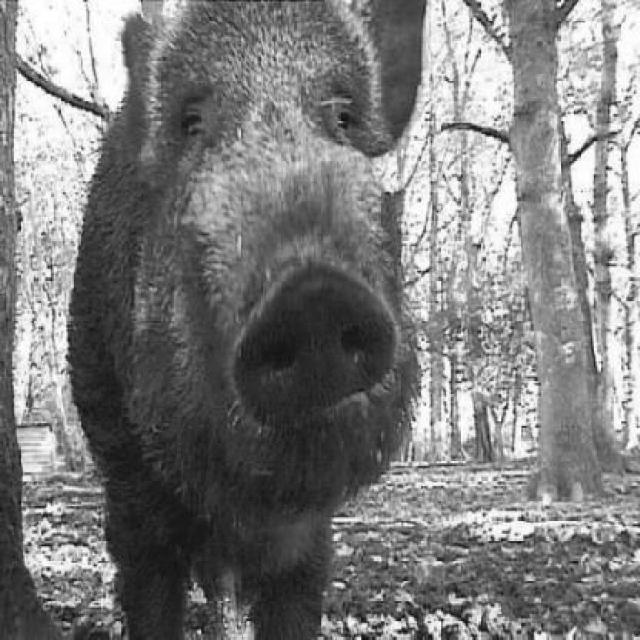Boar: (22, 0, 500, 623)
